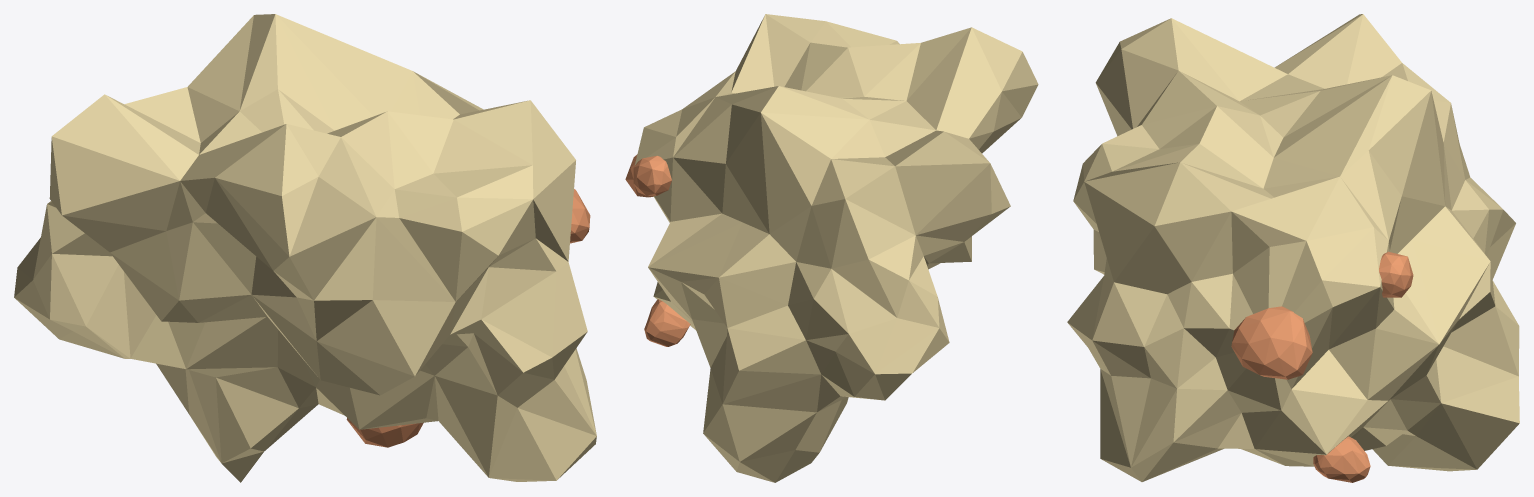
The model's file is StoneOre (26).fbx.
3 views of the same model, side by side, from view 1: azimuth 30°, elevation 25°; view 2: azimuth 150°, elevation 25°; view 3: azimuth 270°, elevation 25° (orthographic). The views are drawn at different scales.
Visible parts, largest first — view 1: Asteroid313; view 2: Asteroid313; view 3: Asteroid313.
Boxes of the visible parts, x1,y1,x2,y2 form: Asteroid313: (14, 14, 596, 482); Asteroid313: (625, 14, 1038, 482); Asteroid313: (1067, 14, 1519, 482).
Bounding box in the file's own units: 350 × 318 × 313.
